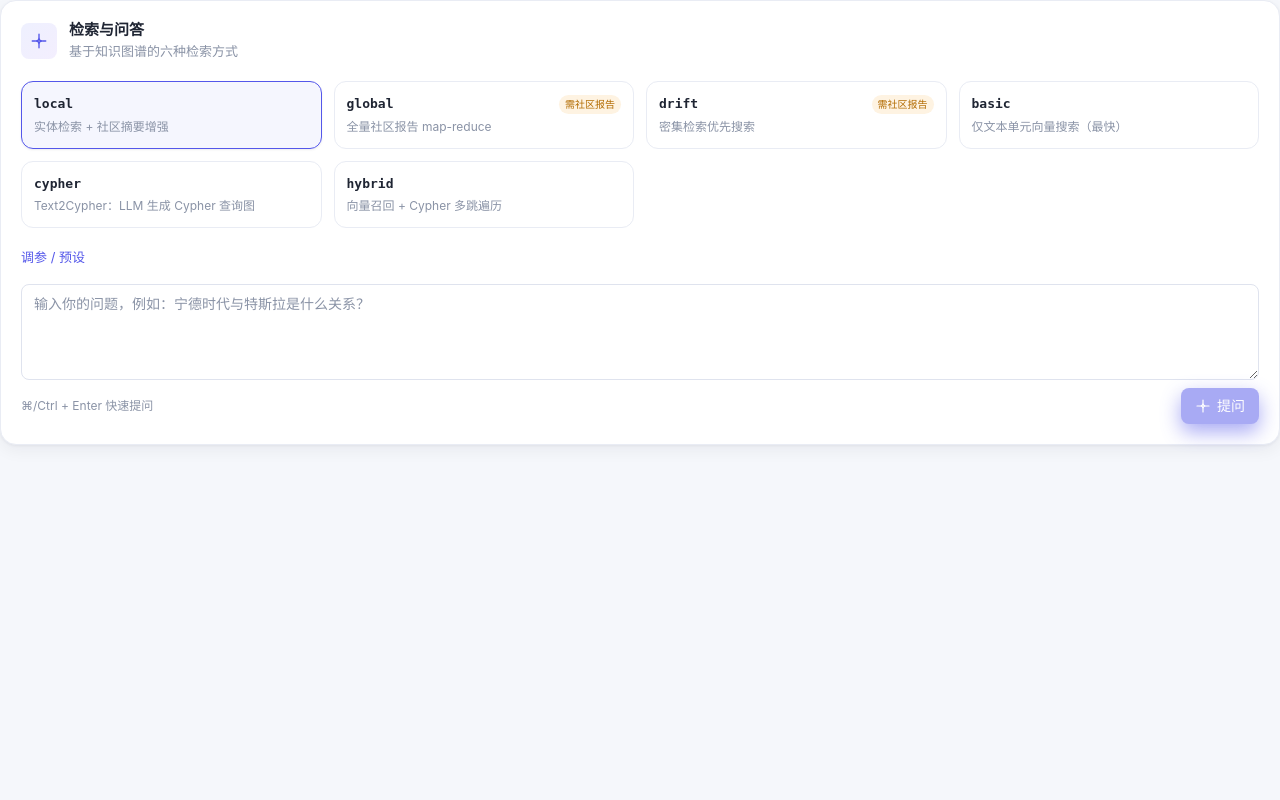
Test: shows the truncated notice when the done result is truncated
In the text box: (640, 332) [21,284,1259,380], type "hi"
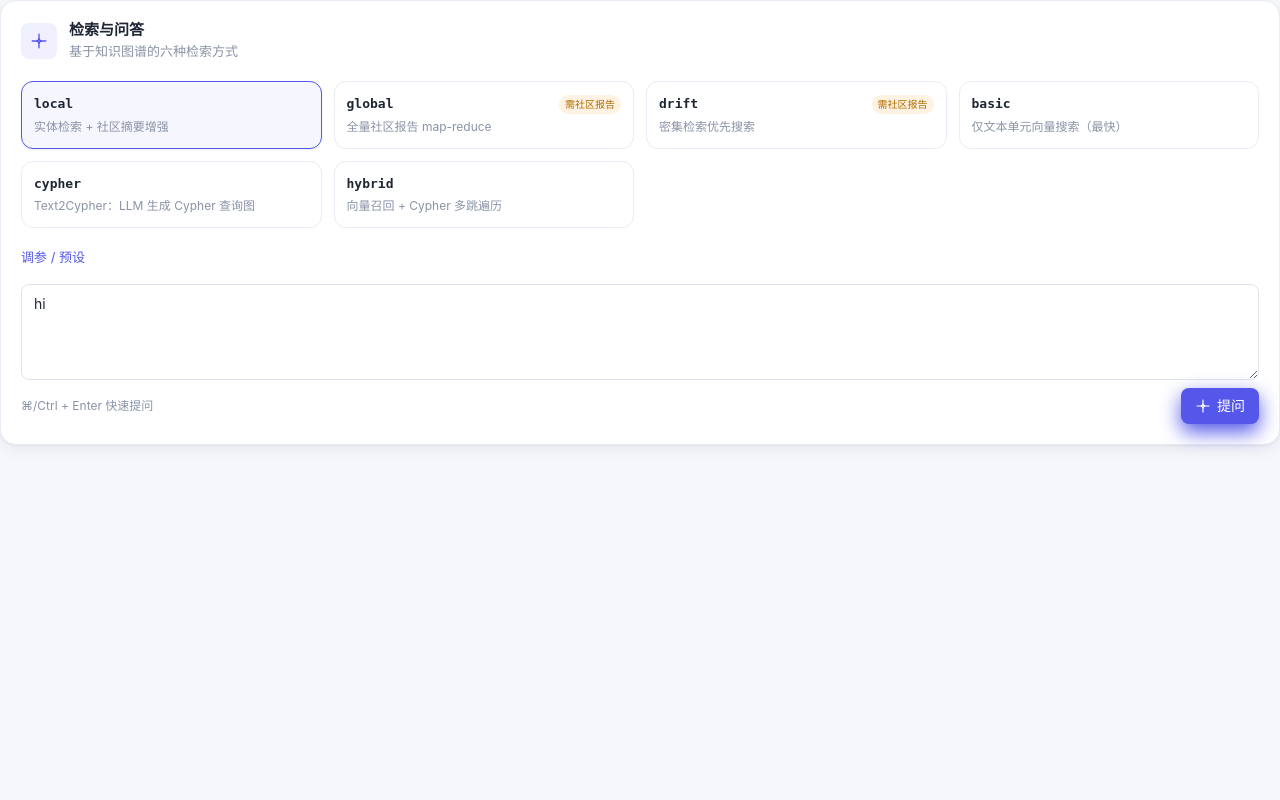
Click the button "提问": (1220, 406) [1181,388,1259,424]
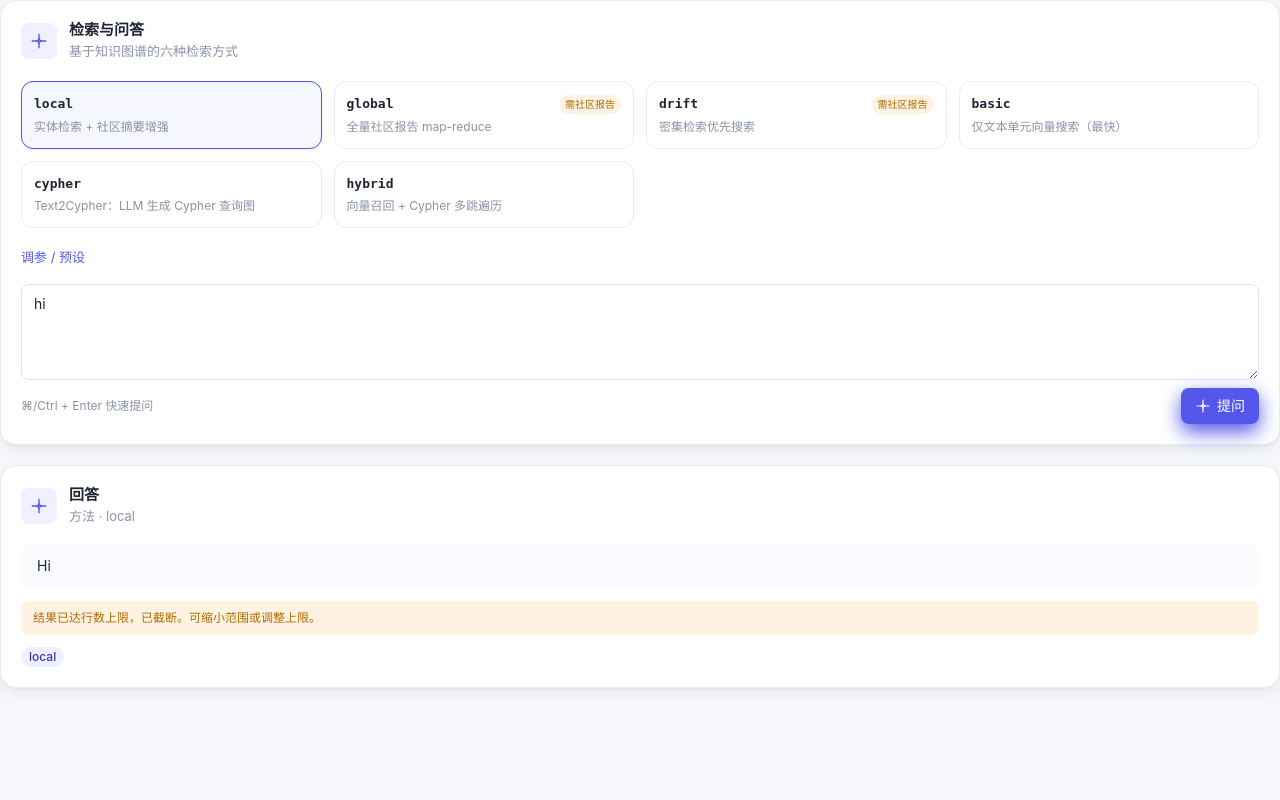
Now the text "结果已达行数上限，已截断。可缩小范围或调整上限。" is shown, box [33,609,321,627]
